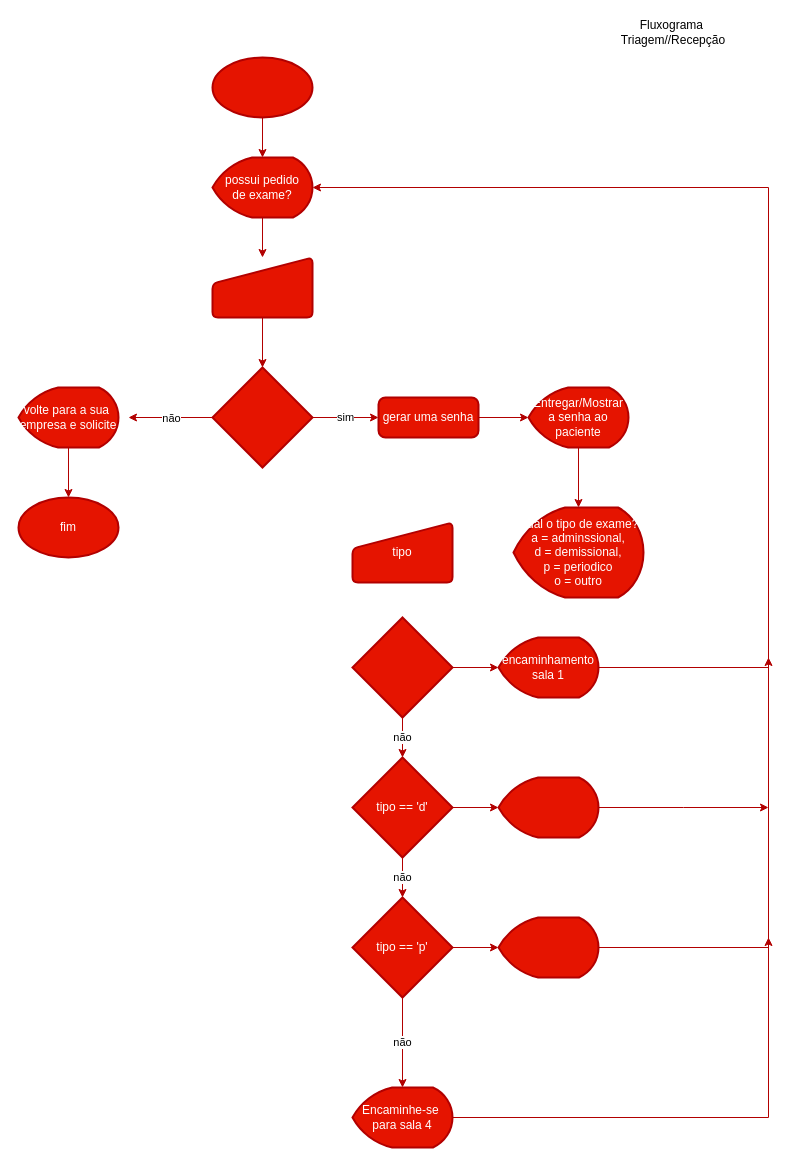
Some shapes in this 794 by 1165 pixel diagram are drawn without their labels. Here are the shapes that lost their labels. From the top down, the centre of each, then its label:
the point at 262,87: inicio
the point at 262,287: pedido
the point at 262,417: pedido == 's'
the point at 402,667: tipo == 'a'
the point at 548,807: encaminhamento sala 2
the point at 548,947: Encaminhamaneto sla 3
